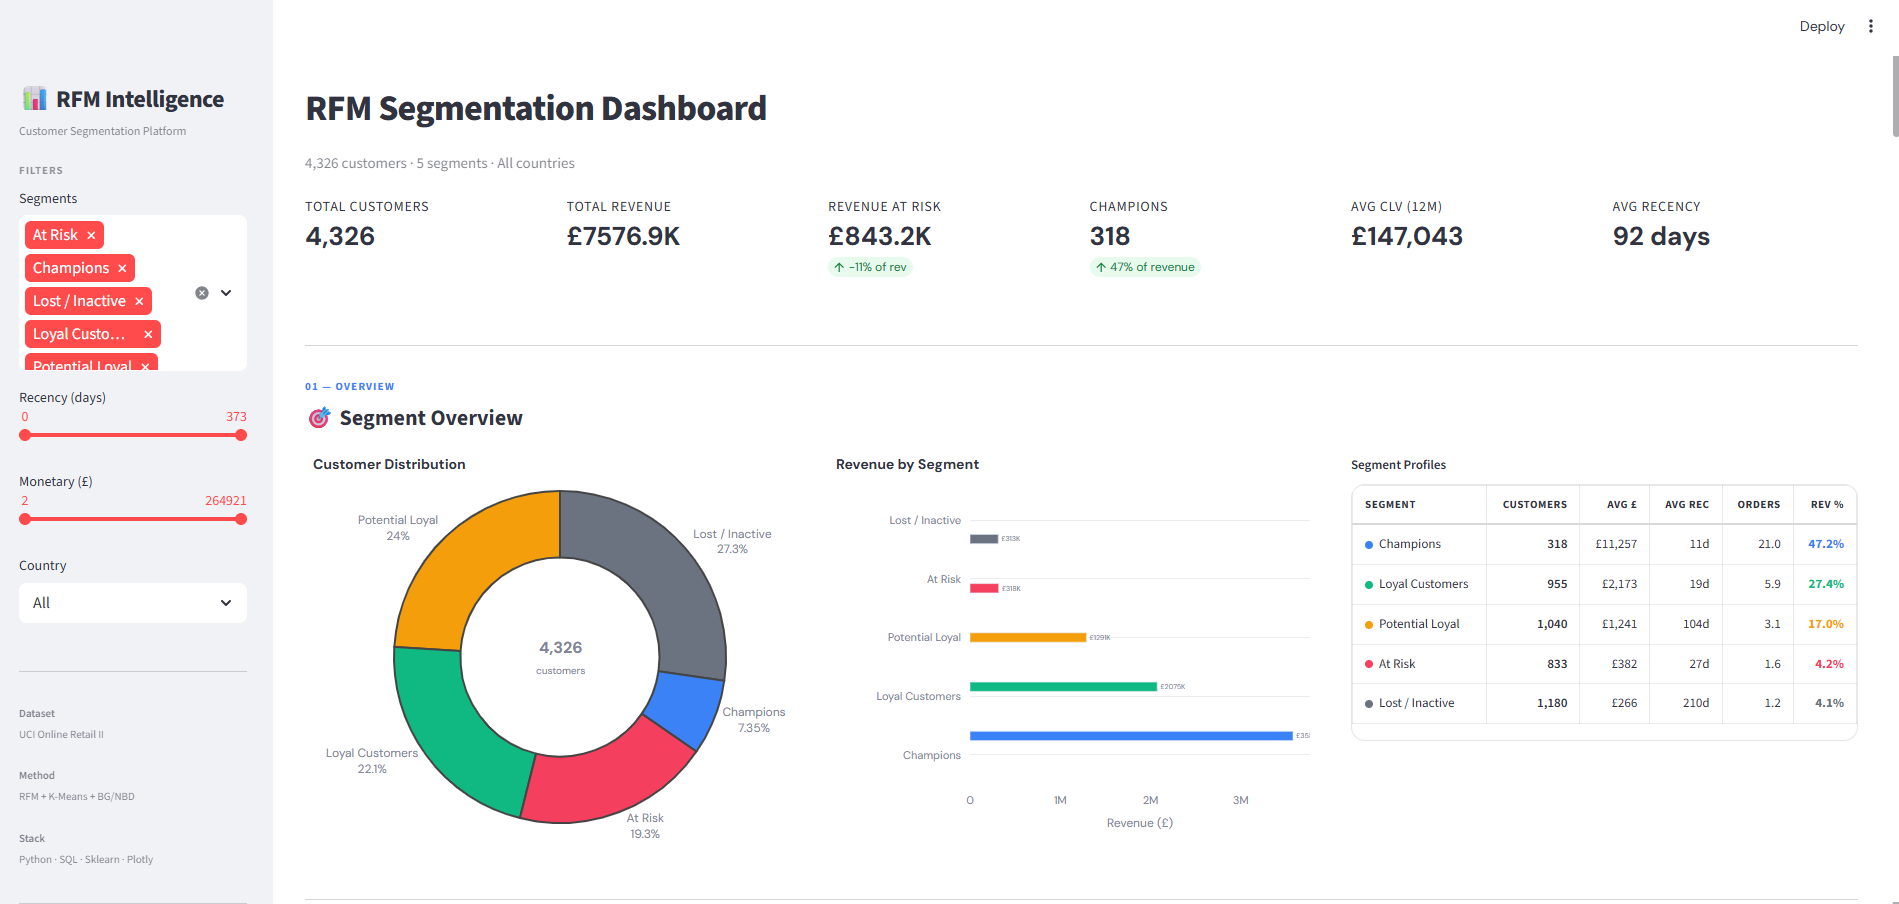

Layout of this report page (visuals, bound fields, positions):
{"tool":"powerbi","page":{"name":"Executive Summary","canvas":[1280,720],"ordinal":0},"visuals":[{"type":"card","fields":{"Values":["Customer_RFM.Total Revenue"]},"box":[262.1,85.1,270.3,108.4],"z":0},{"type":"card","fields":{"Values":["Customer_RFM.Total Customers"]},"box":[0,85.1,262.1,113.9],"z":1000},{"type":"card","fields":{"Values":["Customer_RFM.Champions Revenue %"]},"box":[795.9,85.1,233.3,113.9],"z":2000},{"type":"donutChart","title":"Customer Distribution","fields":{"Category":["Customer_RFM.Segment"],"Y":["CountNonNull(Customer_RFM.Customer ID)"]},"box":[0,193.2,509.9,222.6],"z":3000},{"type":"clusteredBarChart","title":"Revenue by Segment","fields":{"Category":["Customer_RFM.Segment"],"Y":["Sum(Customer_RFM.Monetary)"]},"box":[509.9,193.2,770.4,258],"z":4000},{"type":"card","fields":{"Values":["Customer_RFM.Revenue at Risk"]},"box":[532.4,85.1,263.5,108.4],"z":5000},{"type":"card","fields":{"Values":["Customer_RFM.Avg Recency"]},"box":[1029.2,85.1,251.1,113.9],"z":6000},{"type":"clusteredBarChart","fields":{"Category":["Customer_RFM.Segment"],"Y":["Avg(Customer_RFM.R_Score)","Avg(Customer_RFM.F_Score)","Avg(Customer_RFM.M_Score)"]},"box":[501.4,451.2,778.9,270.2],"z":7000},{"type":"textbox","box":[0,0,1280.3,83.7],"z":8000},{"type":"card","fields":{"Values":["Customer_RFM.Avg CLV"]},"box":[0,523.4,501.4,196.9],"z":9000},{"type":"pageNavigator","box":[663.8,0,616.2,73.8],"z":10000},{"type":"card","fields":{"Values":["Churn_Risk.Insight_Page1"]},"box":[0,415.8,501.4,107.6],"z":11000}]}

Visuals, with their boxes on the page's 1280x720 design canvas (x1, y1, x2, y2). These are canvas units, not pixel positions in the 1899x904 screenshot, which may show the page scaled, cropped or inside an application window:
card - Customer_RFM.Total Revenue: l=262, t=85, r=532, b=194
card - Customer_RFM.Total Customers: l=0, t=85, r=262, b=199
card - Customer_RFM.Champions Revenue %: l=796, t=85, r=1029, b=199
"Customer Distribution" donutChart: l=0, t=193, r=510, b=416
"Revenue by Segment" clusteredBarChart: l=510, t=193, r=1280, b=451
card - Customer_RFM.Revenue at Risk: l=532, t=85, r=796, b=194
card - Customer_RFM.Avg Recency: l=1029, t=85, r=1280, b=199
clusteredBarChart - Customer_RFM.Segment x Avg(Customer_RFM.R_Score): l=501, t=451, r=1280, b=721
textbox: l=0, t=0, r=1280, b=84
card - Customer_RFM.Avg CLV: l=0, t=523, r=501, b=720
pageNavigator: l=664, t=0, r=1280, b=74
card - Churn_Risk.Insight_Page1: l=0, t=416, r=501, b=523
